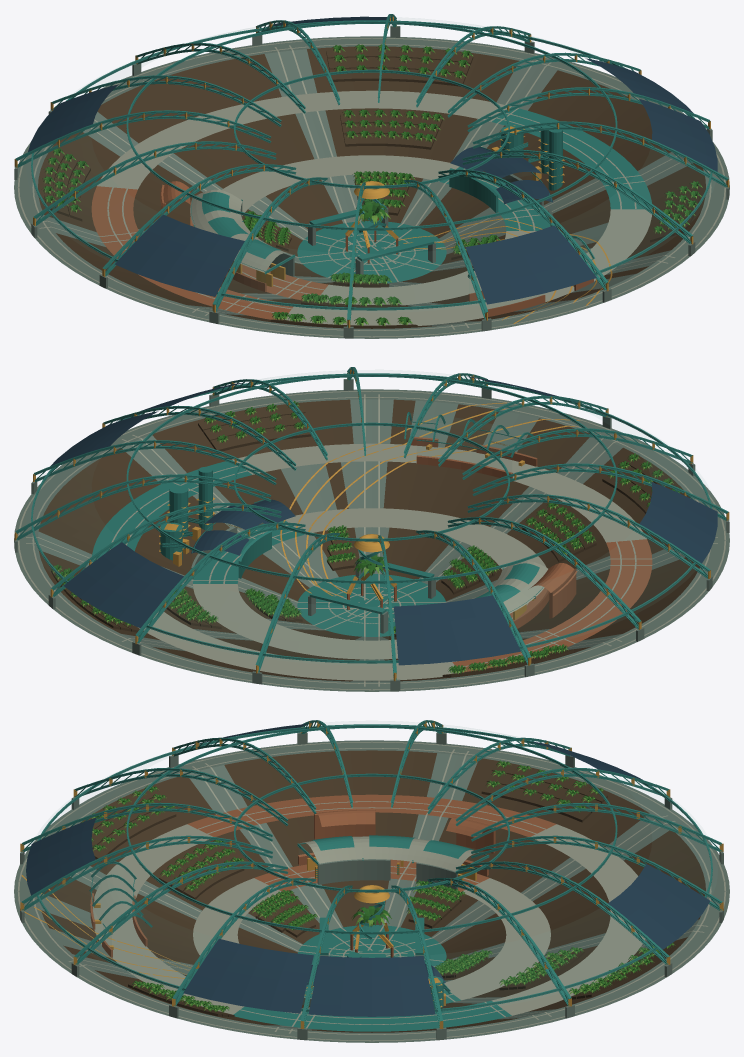
File: helix-conservatory.glb
3 renders of one model, top to bottom at view 1: azimuth 30°, elevation 25°; view 2: azimuth 150°, elevation 25°; view 3: azimuth 270°, elevation 25°, orthographic.
Parts seen in each view (by area): view 1: soil-surface-walkable-True, verdigris-surface-walkable-False, stone-surface-walkable-True, solar-surface-walkable-False, ceramic-surface-walkable-True, ceramic-none-walkable-False, verdigris-surface-walkable-True, soil-surface-walkable-False, botanical-none-walkable-False, brick-surface-walkable-True, leaflight-none-walkable-False, gold-surface-walkable-False (+8 smaller); view 2: soil-surface-walkable-True, stone-surface-walkable-True, verdigris-surface-walkable-False, ceramic-surface-walkable-True, solar-surface-walkable-False, ceramic-none-walkable-False, verdigris-surface-walkable-True, botanical-none-walkable-False, soil-surface-walkable-False, brick-surface-walkable-True, gold-surface-walkable-False, verdigris-wall-walkable-False (+8 smaller); view 3: soil-surface-walkable-True, verdigris-surface-walkable-False, stone-surface-walkable-True, solar-surface-walkable-False, ceramic-surface-walkable-True, ceramic-none-walkable-False, soil-surface-walkable-False, botanical-none-walkable-False, brick-surface-walkable-True, verdigris-surface-walkable-True, stone-wall-walkable-False, leaflight-none-walkable-False (+7 smaller).
Boxes of the visible parts, <box> form: soil-surface-walkable-True: <box>38,46,705,328</box>; verdigris-surface-walkable-False: <box>15,14,728,326</box>; stone-surface-walkable-True: <box>14,36,729,338</box>; solar-surface-walkable-False: <box>28,16,717,304</box>; ceramic-surface-walkable-True: <box>97,90,652,325</box>; ceramic-none-walkable-False: <box>17,38,725,337</box>; verdigris-surface-walkable-True: <box>297,106,652,283</box>; soil-surface-walkable-False: <box>44,49,699,326</box>; botanical-none-walkable-False: <box>42,44,701,325</box>; brick-surface-walkable-True: <box>91,186,328,319</box>; leaflight-none-walkable-False: <box>43,46,702,326</box>; gold-surface-walkable-False: <box>14,15,729,328</box>; soil-surface-walkable-True: <box>38,399,699,681</box>; stone-surface-walkable-True: <box>14,389,729,691</box>; verdigris-surface-walkable-False: <box>15,367,728,679</box>; ceramic-surface-walkable-True: <box>91,443,646,680</box>; solar-surface-walkable-False: <box>50,376,717,665</box>; ceramic-none-walkable-False: <box>18,391,726,690</box>; verdigris-surface-walkable-True: <box>91,459,445,636</box>; botanical-none-walkable-False: <box>51,401,680,673</box>; soil-surface-walkable-False: <box>51,405,679,675</box>; brick-surface-walkable-True: <box>452,539,652,672</box>; gold-surface-walkable-False: <box>14,368,729,681</box>; verdigris-wall-walkable-False: <box>160,470,434,614</box>; soil-surface-walkable-True: <box>41,750,705,1032</box>; verdigris-surface-walkable-False: <box>21,720,722,1026</box>; stone-surface-walkable-True: <box>14,740,729,1042</box>; solar-surface-walkable-False: <box>26,723,710,1016</box>; ceramic-surface-walkable-True: <box>93,824,645,1015</box>; ceramic-none-walkable-False: <box>17,741,726,1041</box>; soil-surface-walkable-False: <box>91,763,675,1014</box>; botanical-none-walkable-False: <box>81,760,673,1011</box>; brick-surface-walkable-True: <box>187,794,556,891</box>; verdigris-surface-walkable-True: <box>233,925,511,1031</box>; stone-wall-walkable-False: <box>20,733,723,1040</box>; leaflight-none-walkable-False: <box>92,762,675,1012</box>.
Size of the model in its own units: 240 by 50.38 by 240.
